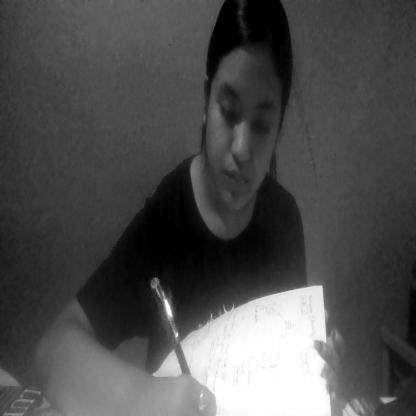Normal: (193, 11, 308, 240)
